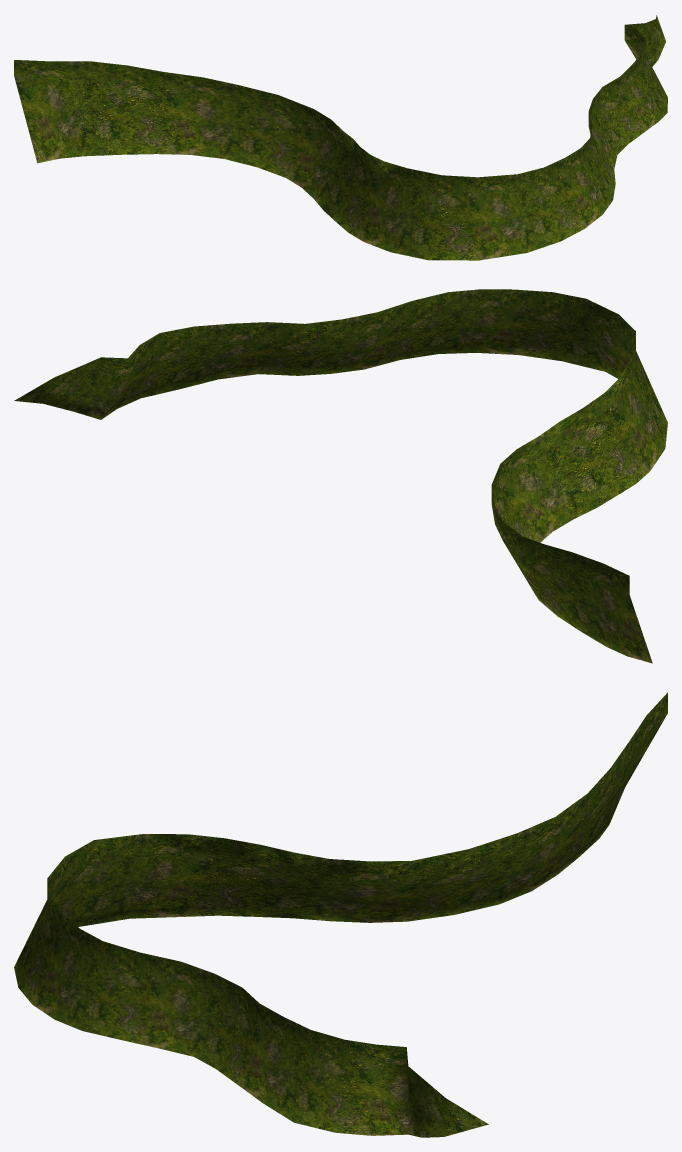
Rendered from OVERHILL_A_01_OH_B_OBJECT42.fbx.
3 views of the same model, one above another, from view 1: azimuth 30°, elevation 25°; view 2: azimuth 150°, elevation 25°; view 3: azimuth 270°, elevation 25° (orthographic). The views are drawn at different scales.
Visible parts, largest first — view 1: OVERHILL_A_01_OH_B_OBJECT42; view 2: OVERHILL_A_01_OH_B_OBJECT42; view 3: OVERHILL_A_01_OH_B_OBJECT42.
Boxes of the visible parts, x1,y1,x2,y2 form: OVERHILL_A_01_OH_B_OBJECT42: (14,15,667,260); OVERHILL_A_01_OH_B_OBJECT42: (14,289,667,663); OVERHILL_A_01_OH_B_OBJECT42: (14,692,667,1137).
Size of the model in its own units: 235039 by 34556 by 174659.
Materials: 1 (1 with a texture image).
